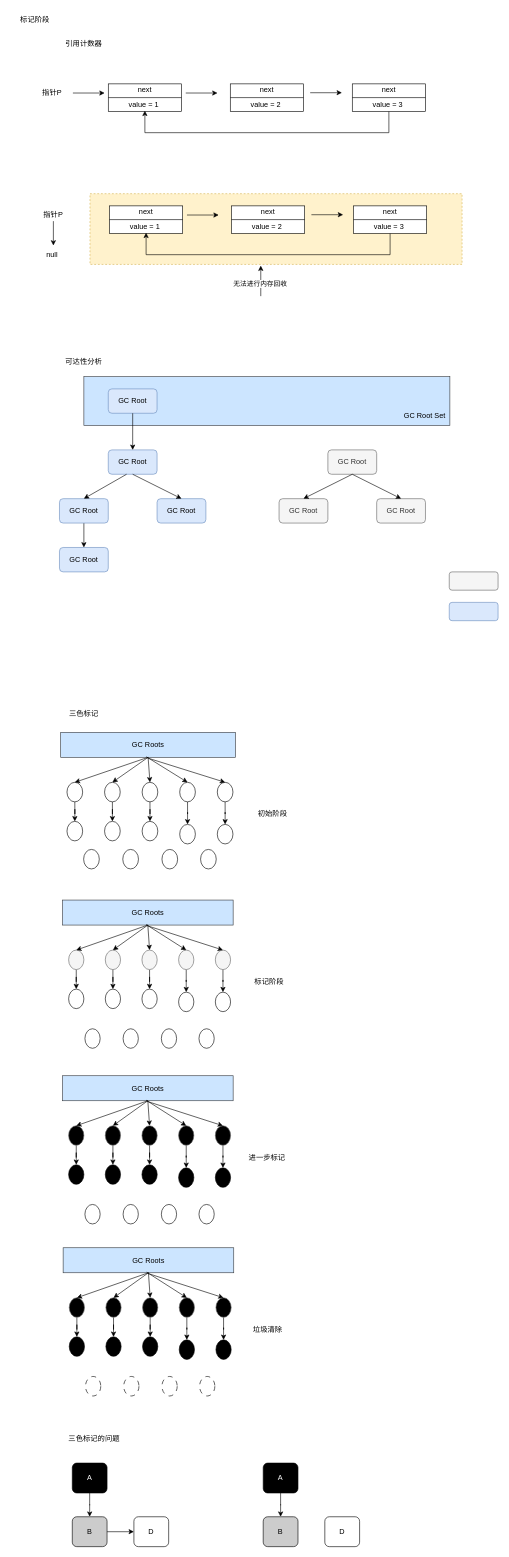
Image size: 509x1557. Some labels were removed from this diagram. The centre of each missing label's shape, as x and y in pixels:
可回收对象: the point at 473,611
存活对象: the point at 473,580
